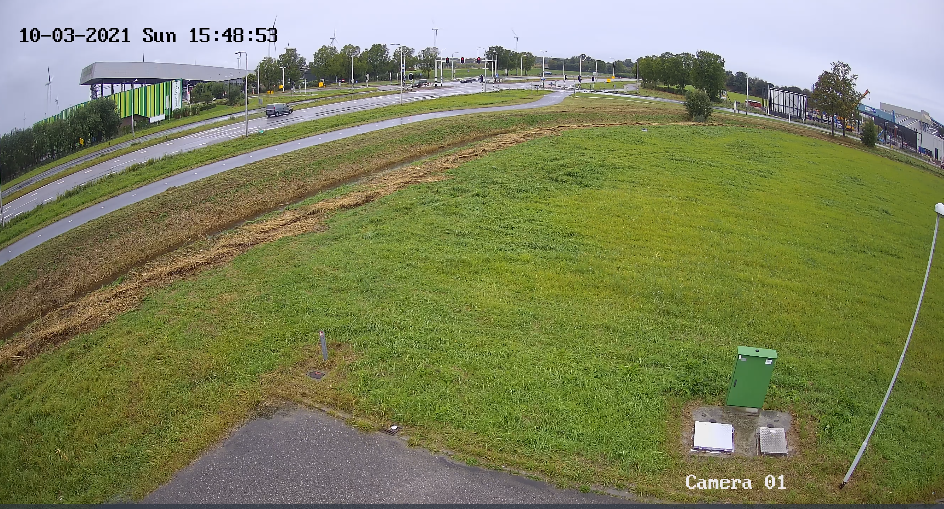werkbus: (262, 100, 294, 116)
